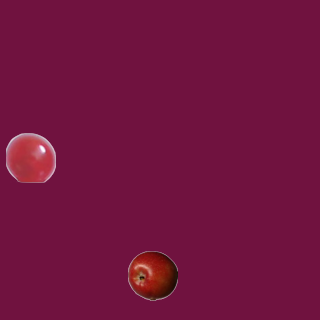Apple Braeburn: (127, 250, 177, 300)
Redcurrant: (5, 132, 55, 182)
